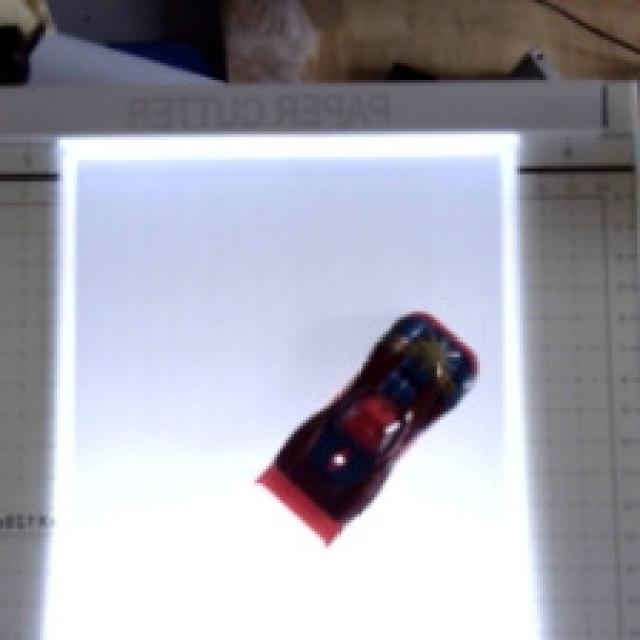Red Car: (203, 296, 512, 572)
